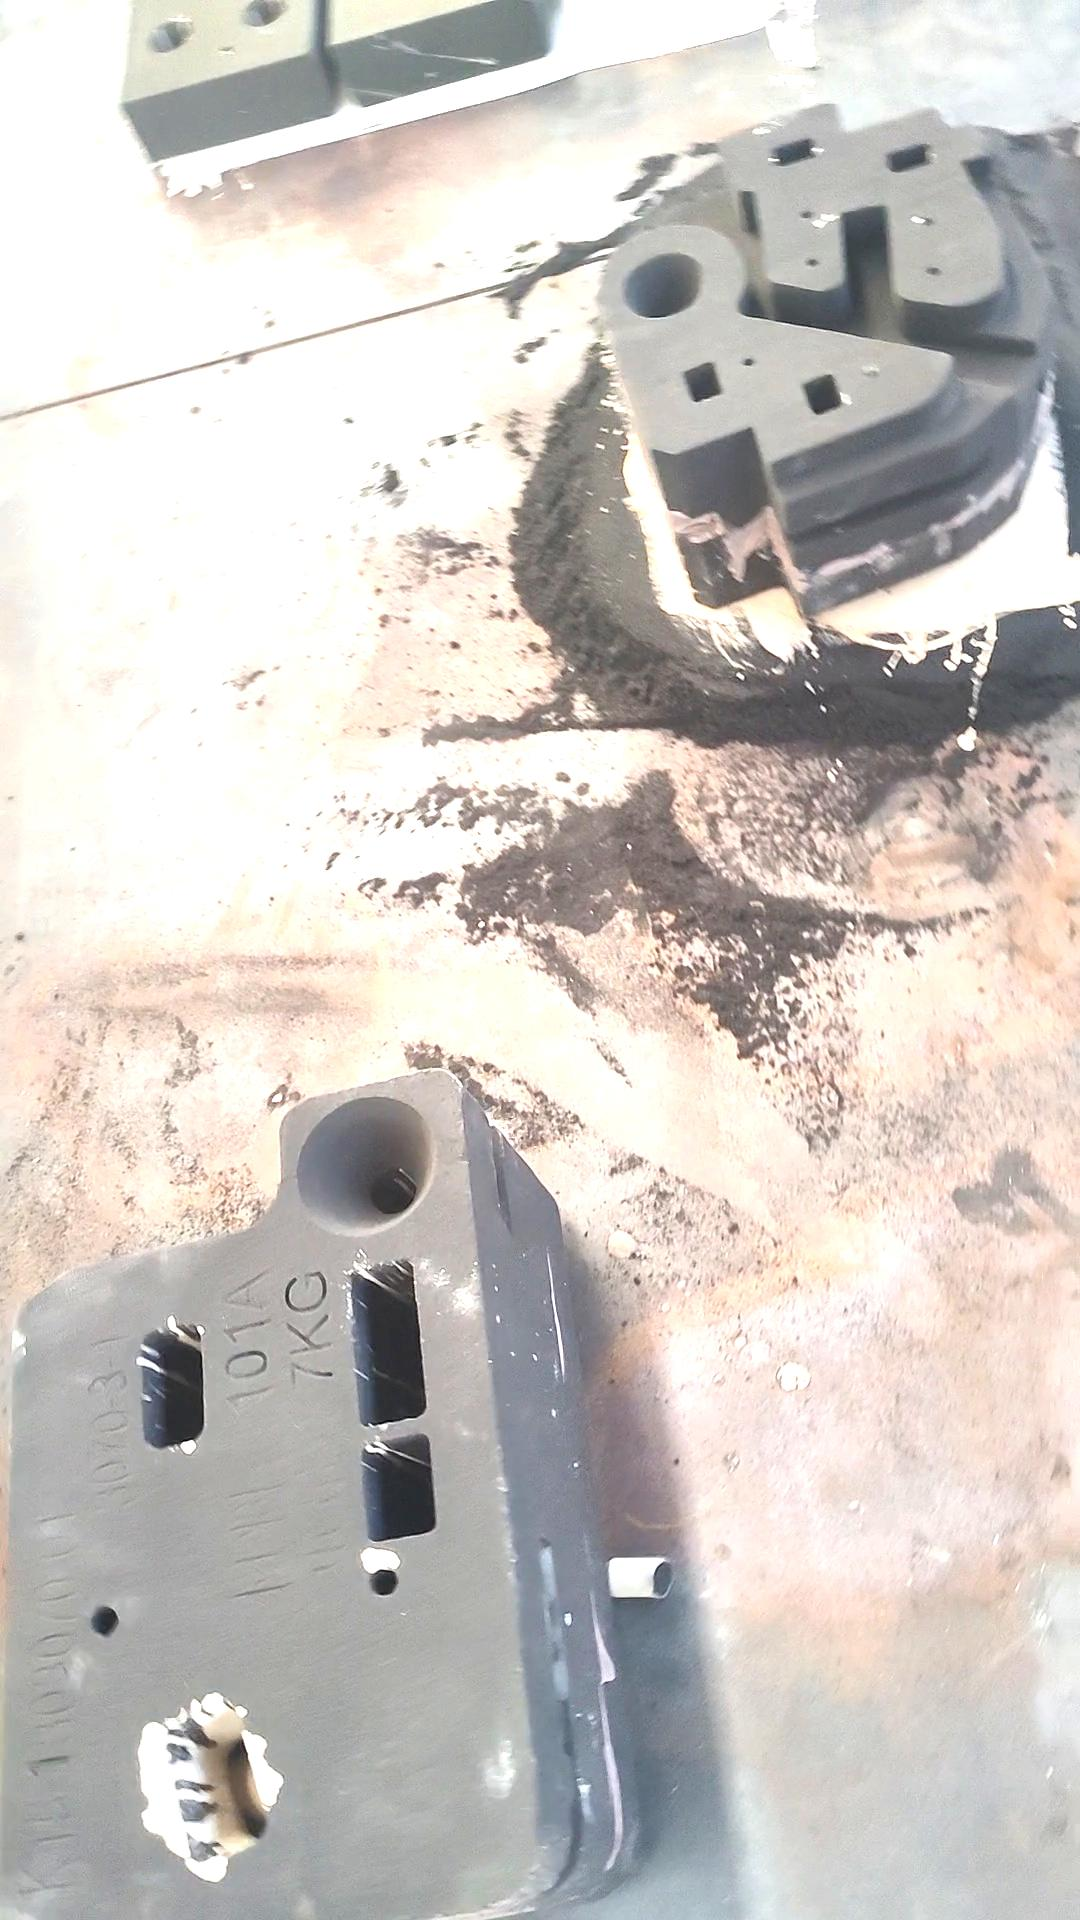pouring hole: (291, 1093, 436, 1236), (622, 249, 702, 320), (142, 15, 193, 53), (237, 1, 285, 29)
